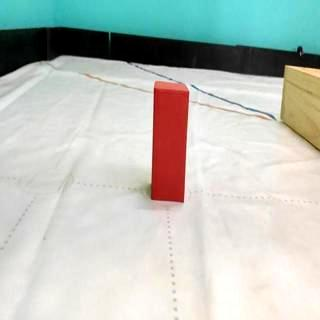redbox: (150, 80, 190, 202)
